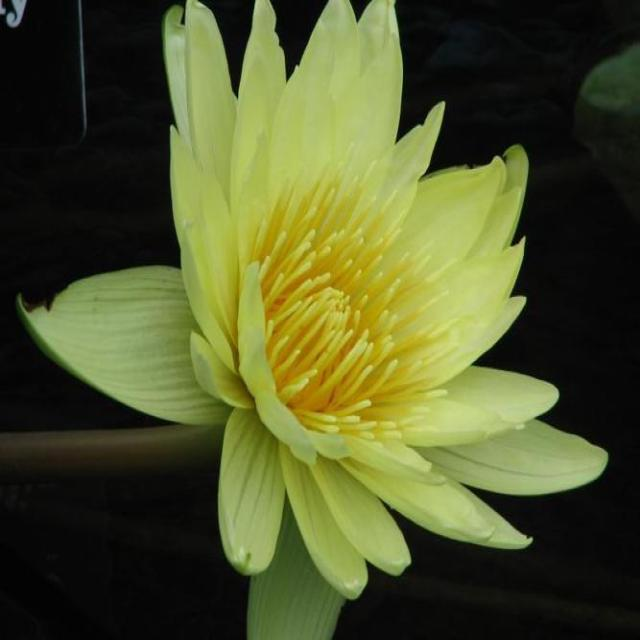rose: (45, 4, 638, 640)
